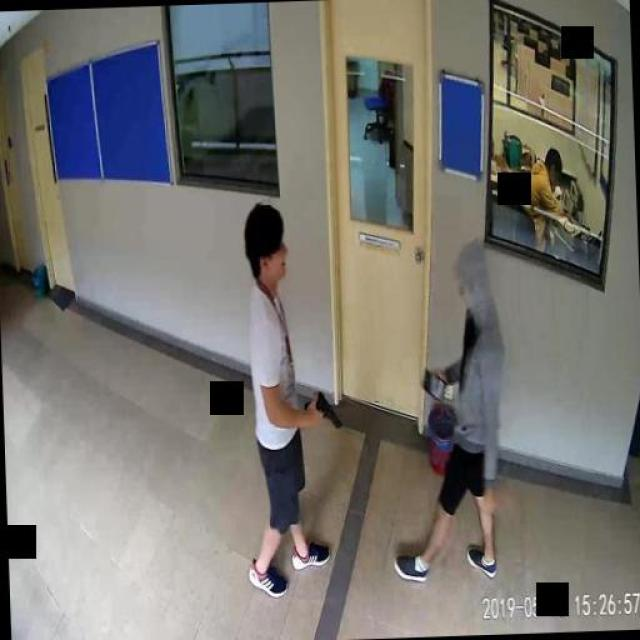gun: (301, 388, 340, 430)
